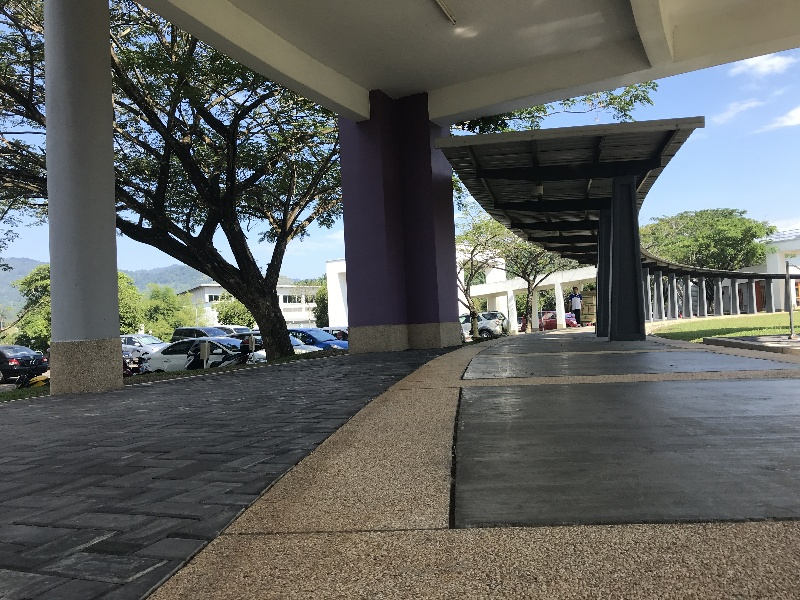Block D corridor: (10, 9, 792, 597)
pillar: (29, 2, 137, 399), (325, 84, 475, 359), (599, 172, 658, 348)
